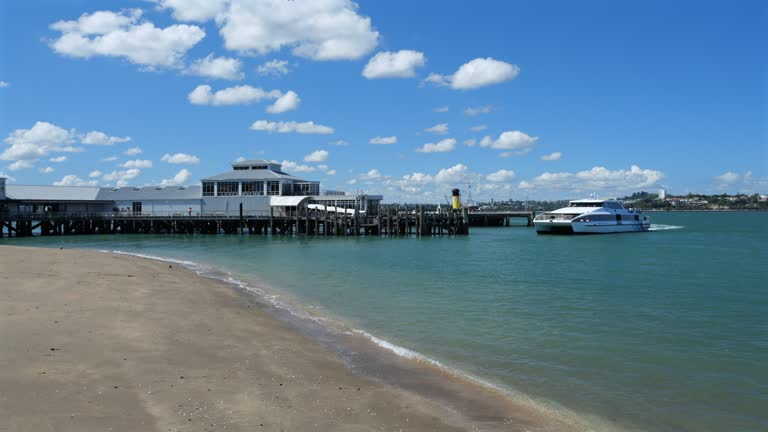ferry: (532, 193, 650, 235)
